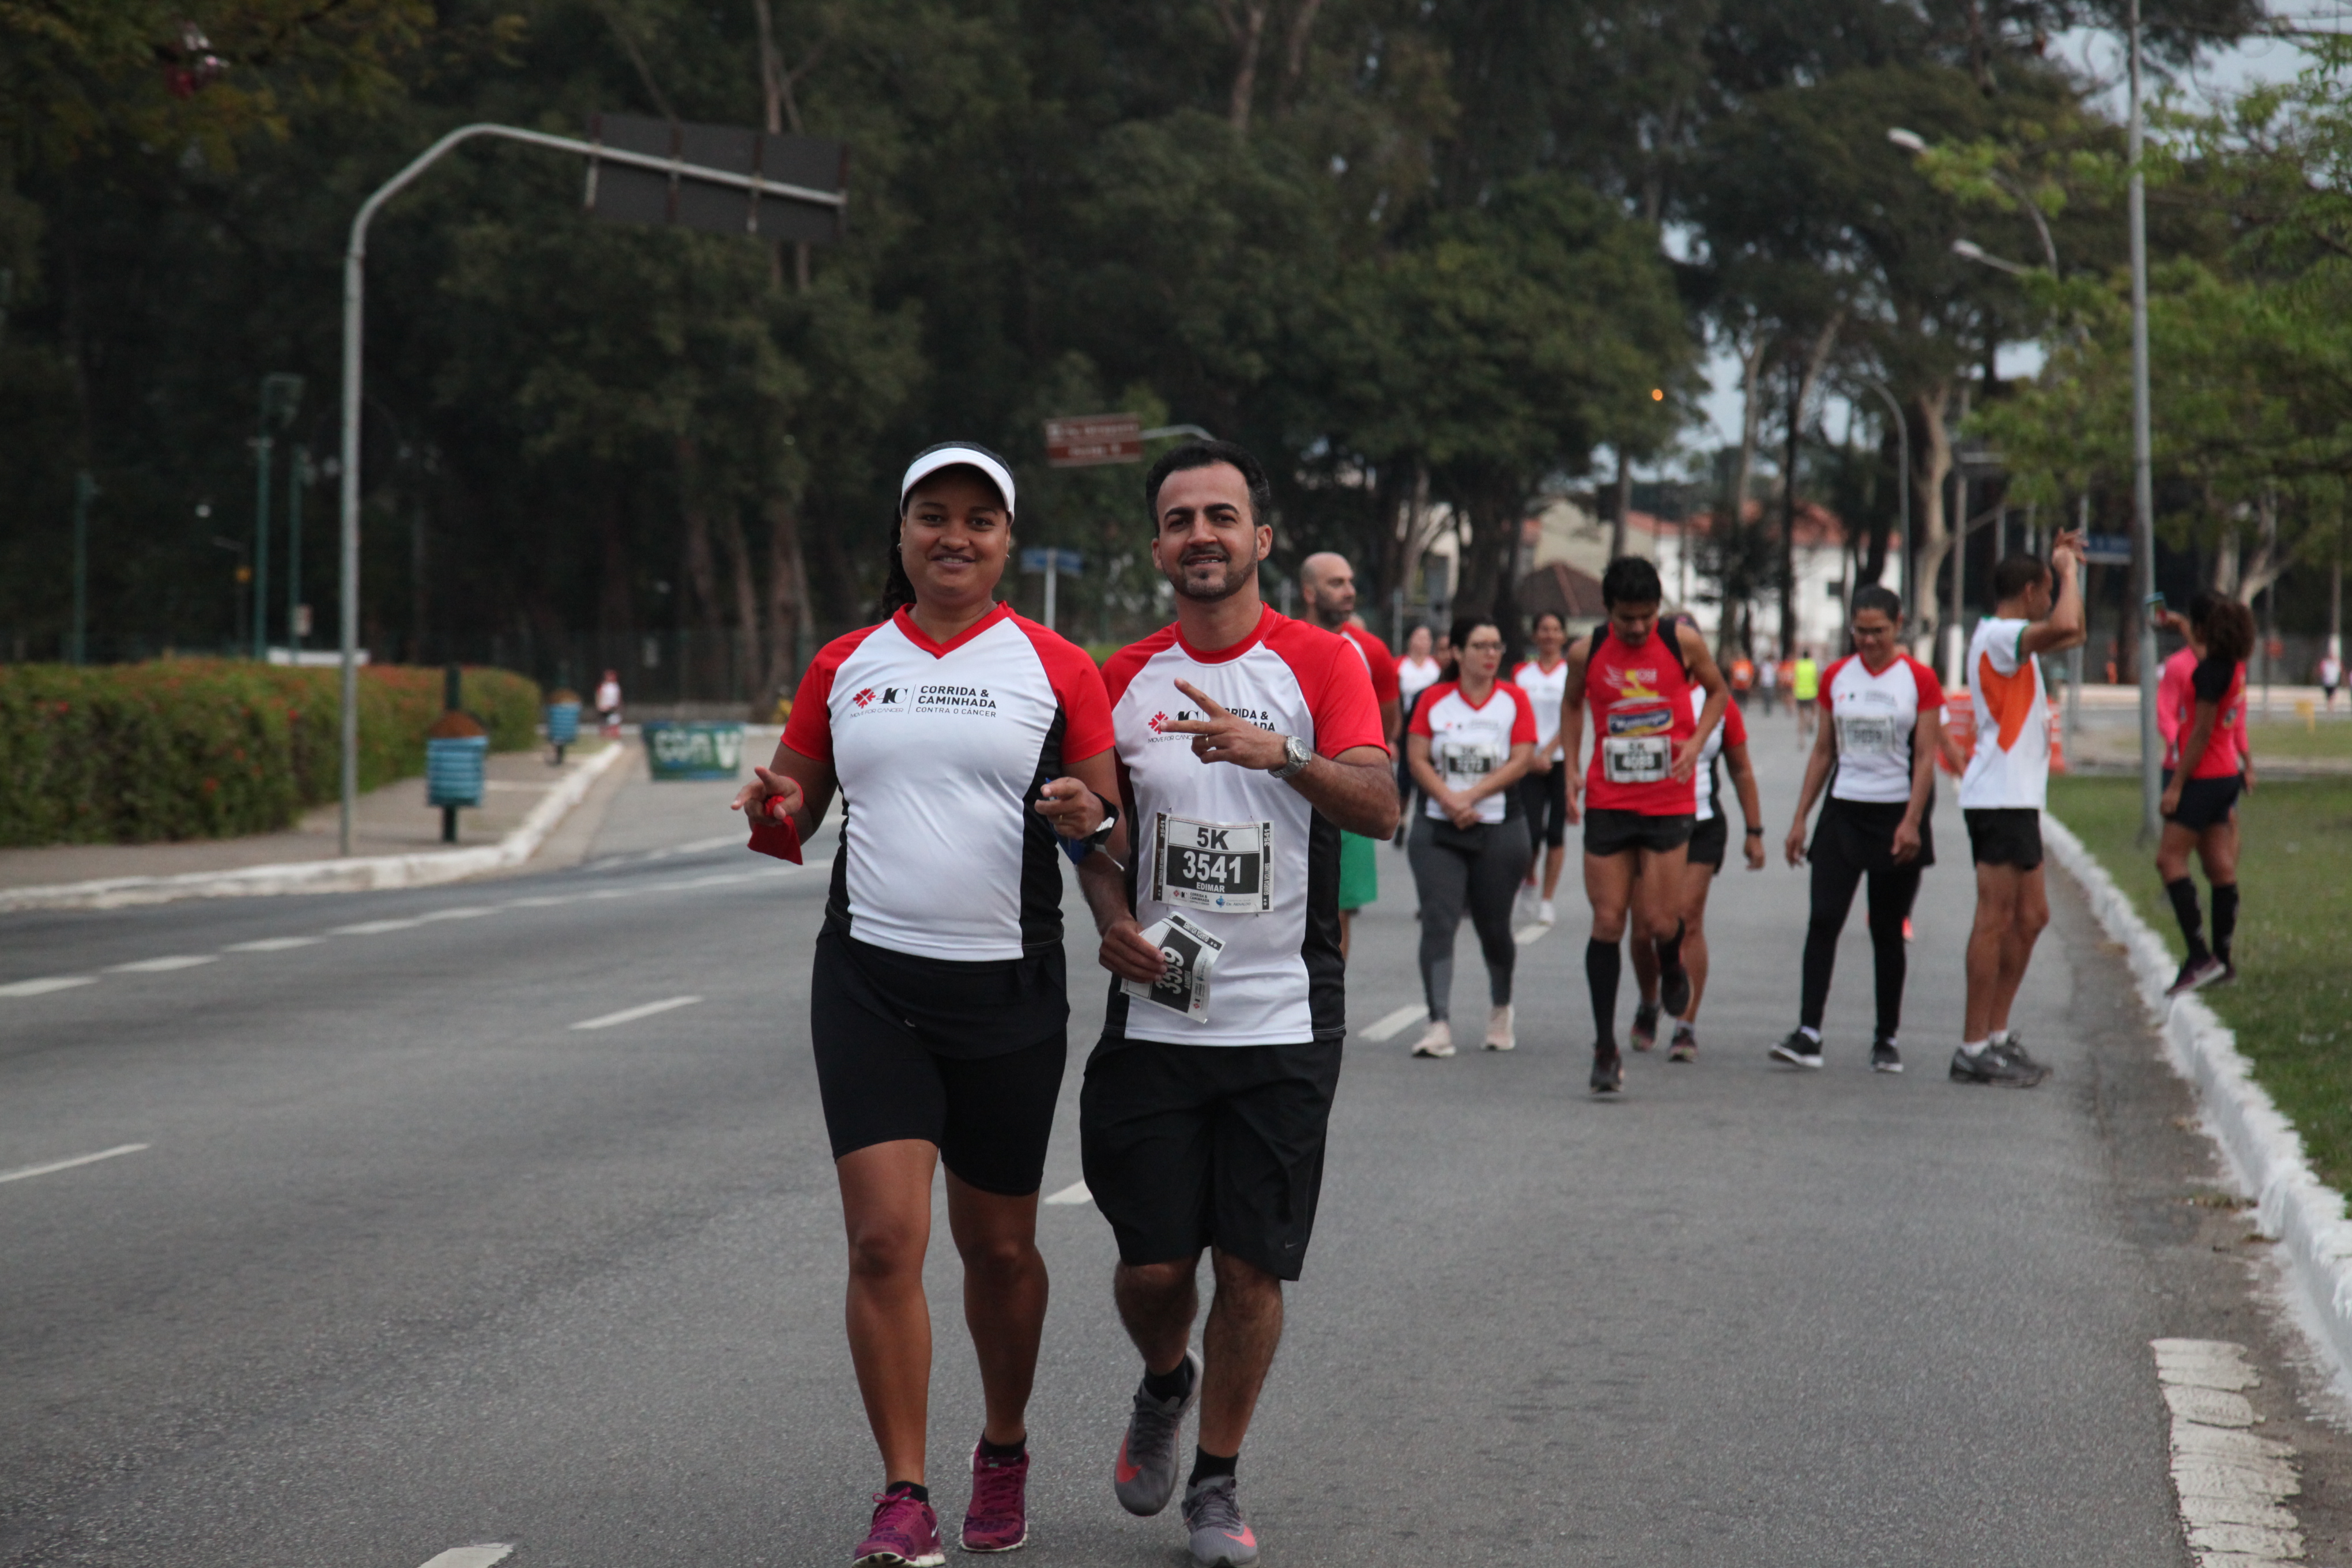bibtag: (1130, 807, 1279, 929), (1598, 733, 1683, 791)
